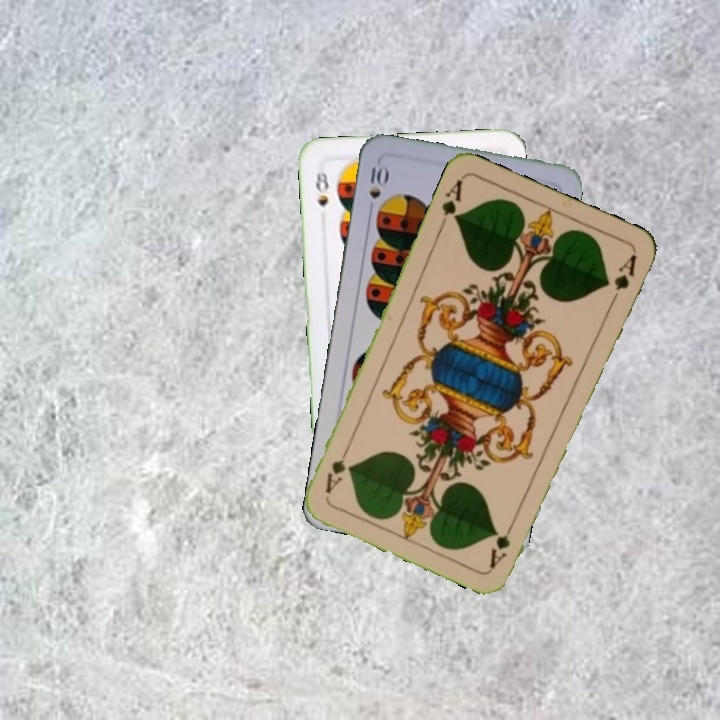GA: (485, 515, 519, 571), (436, 175, 465, 232)
S10: (364, 158, 390, 217)
S8: (312, 168, 332, 209)
